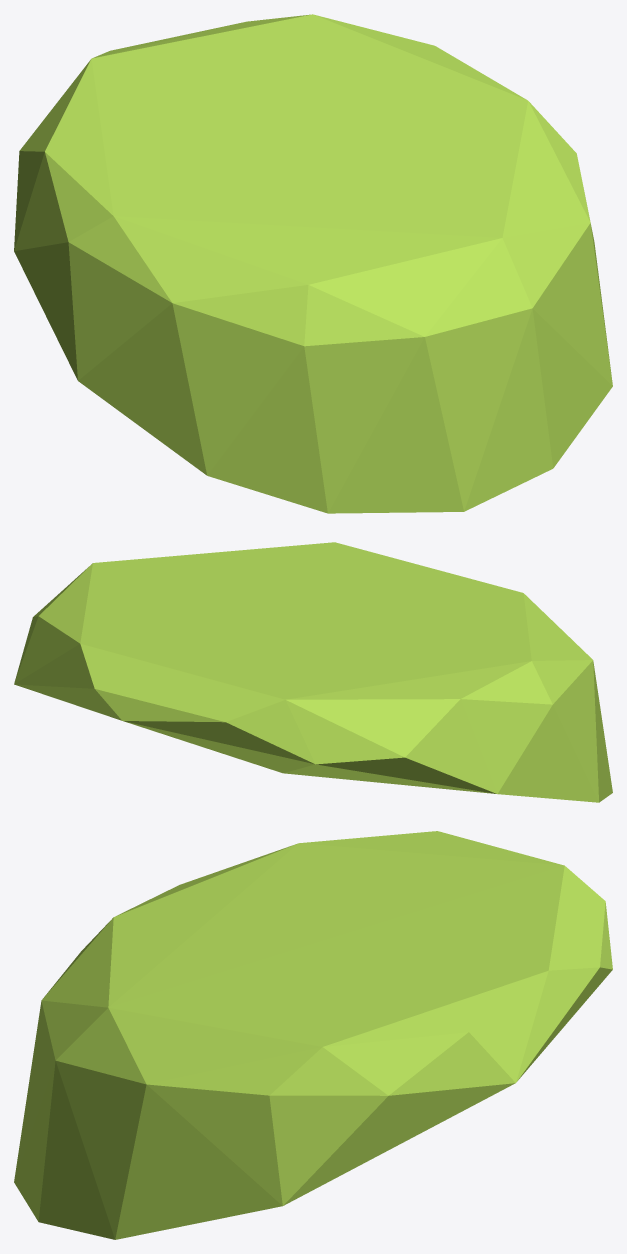
Rendered from ur10e_link_2_coll_2.dae.
The picture shows the model from 3 angles, top to bottom: view 1: azimuth 30°, elevation 25°; view 2: azimuth 150°, elevation 25°; view 3: azimuth 270°, elevation 25°; orthographic projection.
Parts seen in each view (by area): view 1: node; view 2: node; view 3: node.
Part boxes in pixels (x1,y1,x2,y2): node: (14, 14, 612, 513); node: (14, 542, 612, 802); node: (14, 831, 612, 1239).
Bounding box in the file's own units: 0.122 × 0.0607 × 0.1217.
